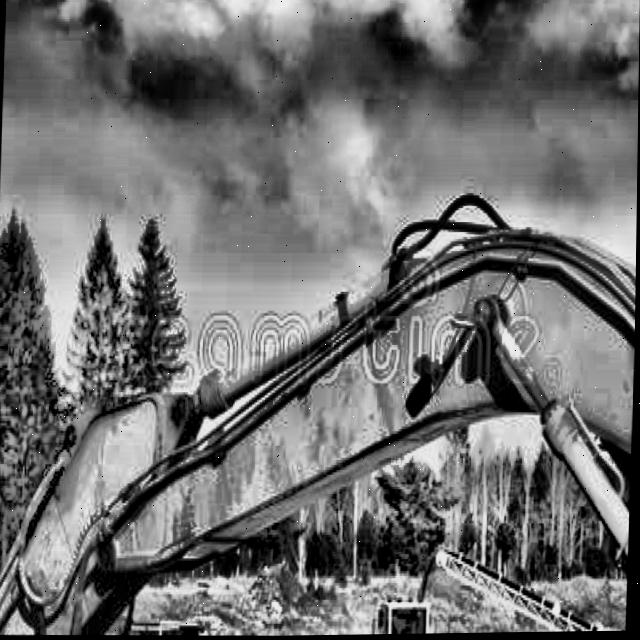excavator: (0, 170, 638, 640)
